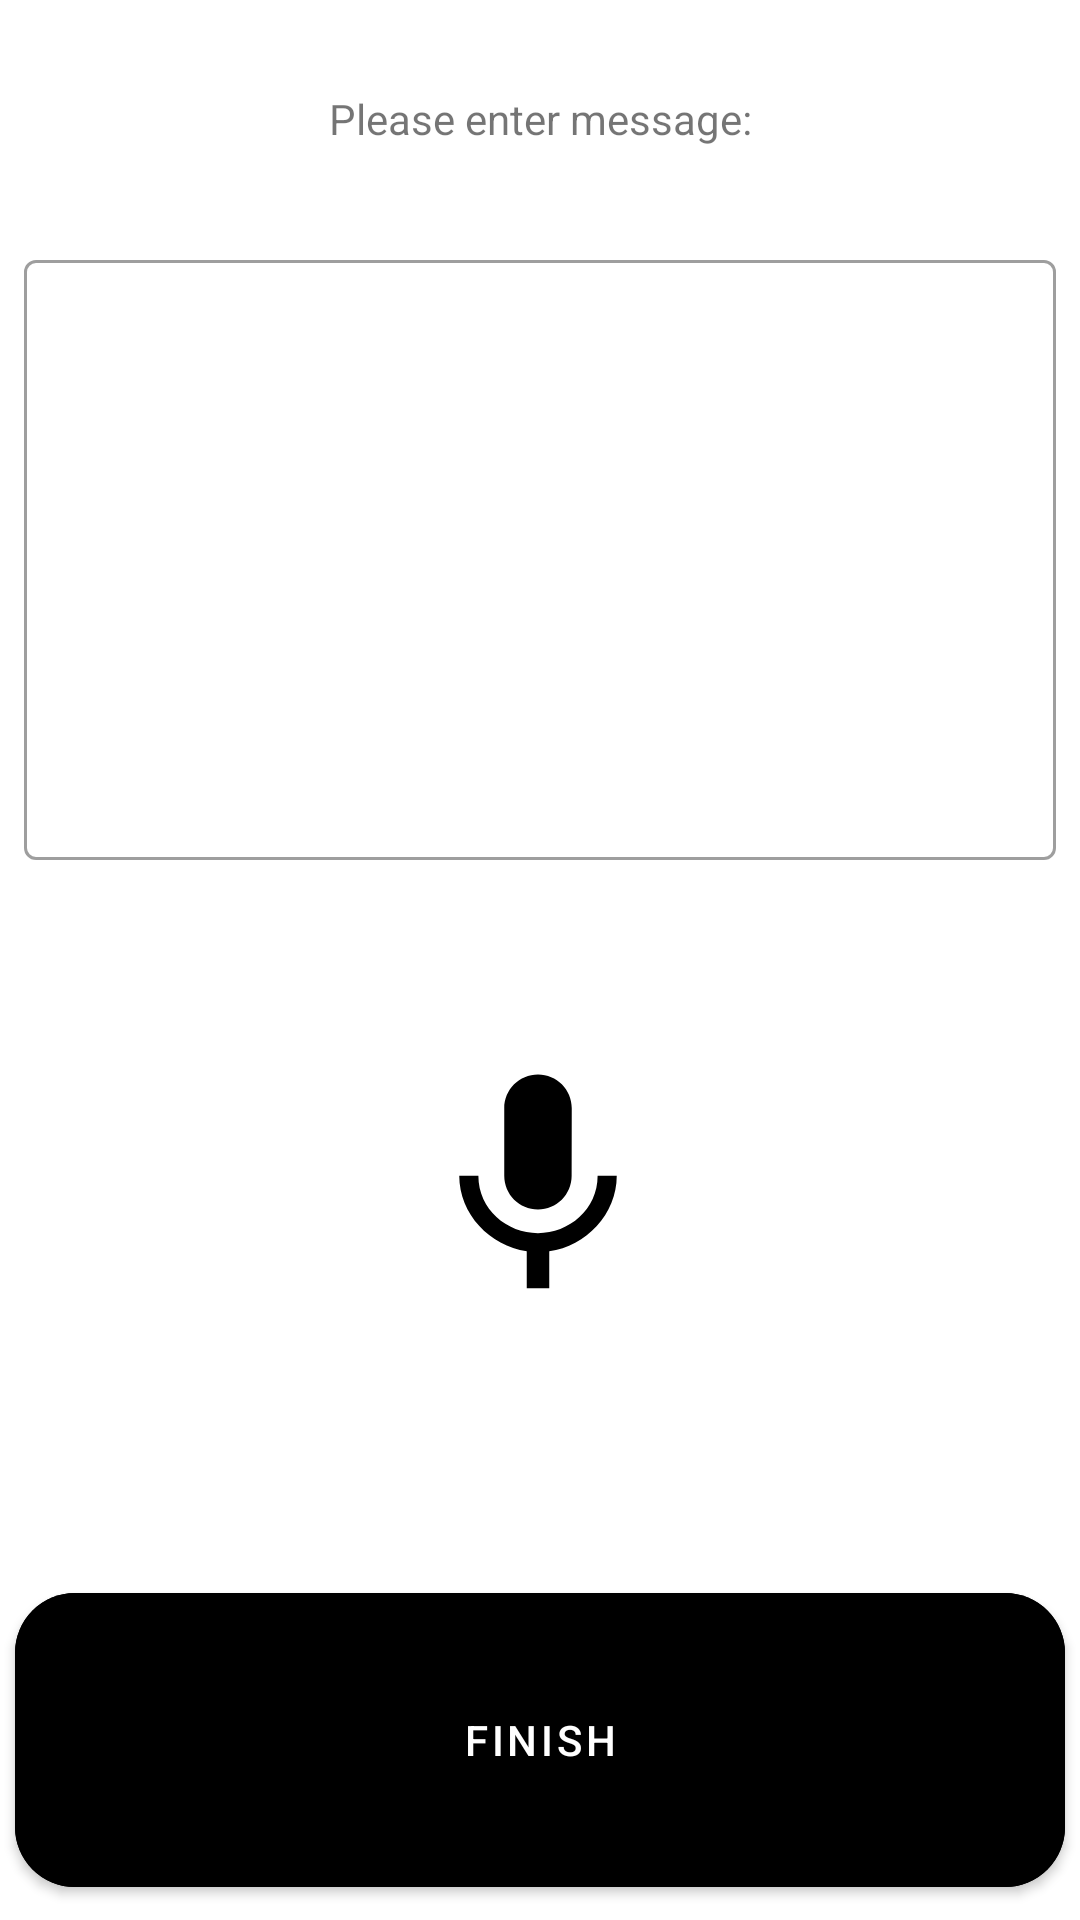

Point at icon controls on the screen. Image size 1080x1920, points as (x=x, y=y).
mic: (x=538, y=1181)
